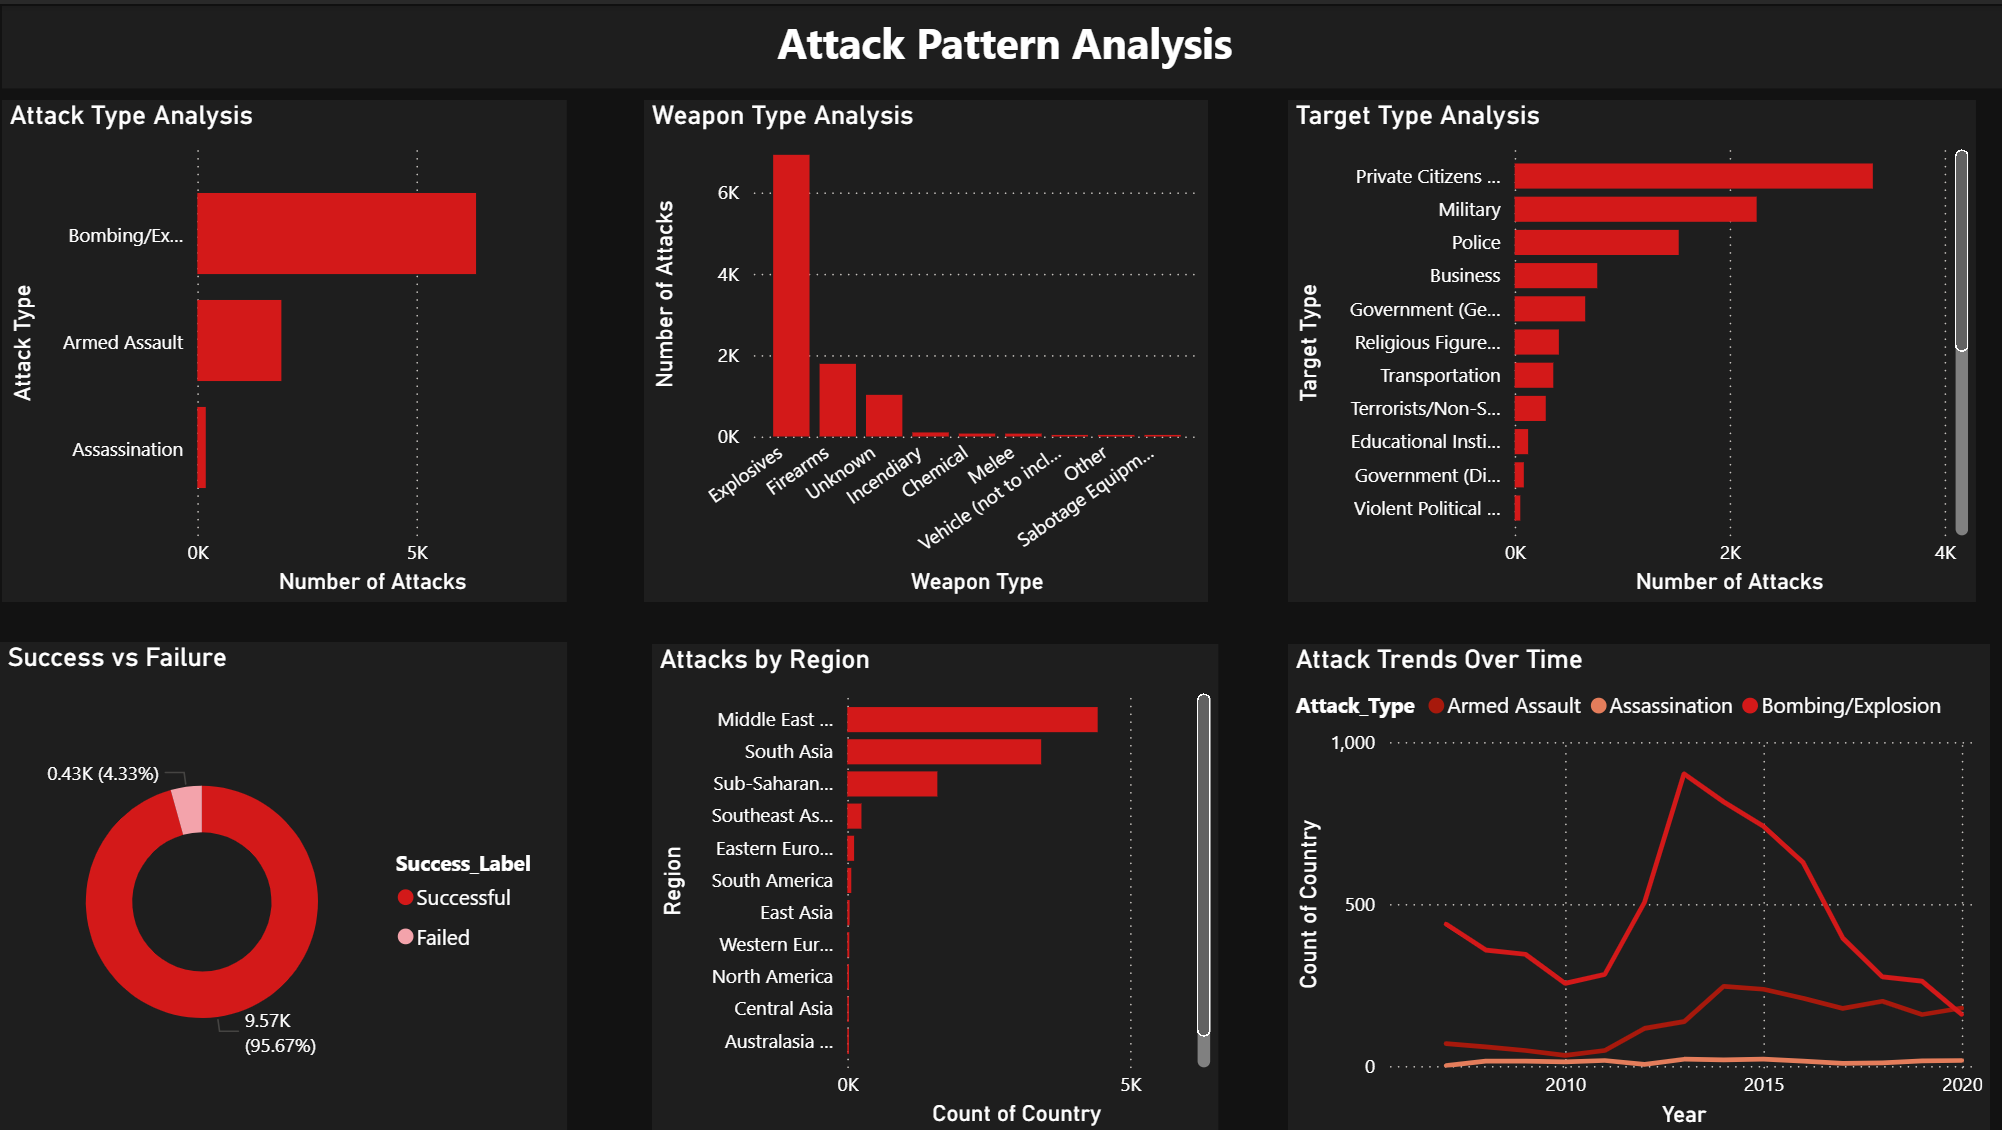

What the dashboard file says about the page in this screenshot:
{"tool":"powerbi","page":{"name":"Page 2","canvas":[1280,720],"ordinal":1},"visuals":[{"type":"clusteredBarChart","title":"Attack Type Analysis","fields":{"Category":["Data.Attack_Type"],"Y":["CountNonNull(Data.Country)"]},"box":[1.2,61.2,360,320],"z":0},{"type":"clusteredColumnChart","title":"Weapon Type Analysis","fields":{"Category":["Data.Weapon_Type"],"Y":["CountNonNull(Data.Country)"]},"box":[410.5,61.2,359.5,320],"z":1000},{"type":"clusteredBarChart","title":"Target Type Analysis","fields":{"Category":["Data.Target_Type"],"Y":["CountNonNull(Data.Country)"]},"box":[821,61.2,438.6,320],"z":2000},{"type":"donutChart","title":"Success vs Failure","fields":{"Y":["CountNonNull(Data.Country)"],"Category":["Data.Success_Label"]},"box":[0,407.3,361.3,312.3],"z":3000},{"type":"clusteredBarChart","title":"Attacks by Region","fields":{"Category":["Data.Region"],"Y":["CountNonNull(Data.Country)"]},"box":[415.1,407.6,360.8,312.4],"z":4000},{"type":"lineChart","title":"Attack Trends Over Time","fields":{"Category":["Data.Year"],"Y":["CountNonNull(Data.Country)"],"Series":["Data.Attack_Type"]},"box":[821,407.6,447.5,312.4],"z":5000},{"type":"textbox","box":[1.3,1.3,1278.7,52.3],"z":6000}]}

Visuals, with their boxes in screenshot pixels (x1, y1, x2, y2), scaled from the page's 1280x720 canvas onto the 2002x1130 screenshot:
"Attack Type Analysis" clusteredBarChart: locate(2, 96, 565, 598)
"Weapon Type Analysis" clusteredColumnChart: locate(642, 96, 1204, 598)
"Target Type Analysis" clusteredBarChart: locate(1284, 96, 1970, 598)
"Success vs Failure" donutChart: locate(0, 639, 565, 1129)
"Attacks by Region" clusteredBarChart: locate(649, 640, 1214, 1129)
"Attack Trends Over Time" lineChart: locate(1284, 640, 1984, 1129)
textbox: locate(2, 2, 2001, 84)
